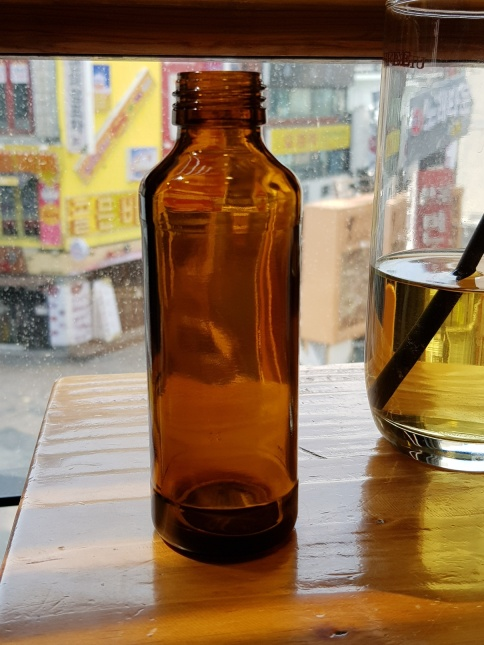Glass: (133, 69, 306, 557)
